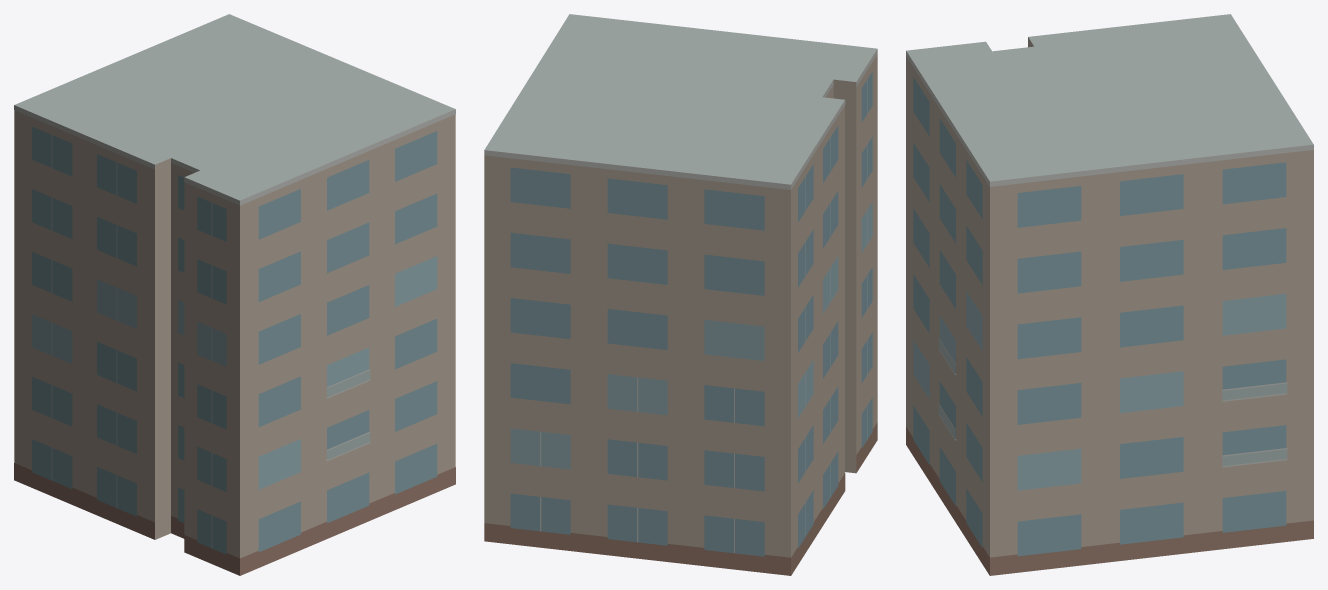
The model's file is survey-upis-32721315.glb.
3 views of the same model, side by side, from view 1: azimuth 30°, elevation 25°; view 2: azimuth 150°, elevation 25°; view 3: azimuth 270°, elevation 25° (orthographic). The views are drawn at different scales.
Parts seen in each view (by area): view 1: survey-upis-32721315.tmp; view 2: survey-upis-32721315.tmp; view 3: survey-upis-32721315.tmp.
Boxes of the visible parts, x1,y1,x2,y2 form: survey-upis-32721315.tmp: (14, 14, 455, 575); survey-upis-32721315.tmp: (484, 14, 877, 575); survey-upis-32721315.tmp: (906, 14, 1313, 575).
Size of the model in its own units: 16.7 by 18.3 by 17.16.
